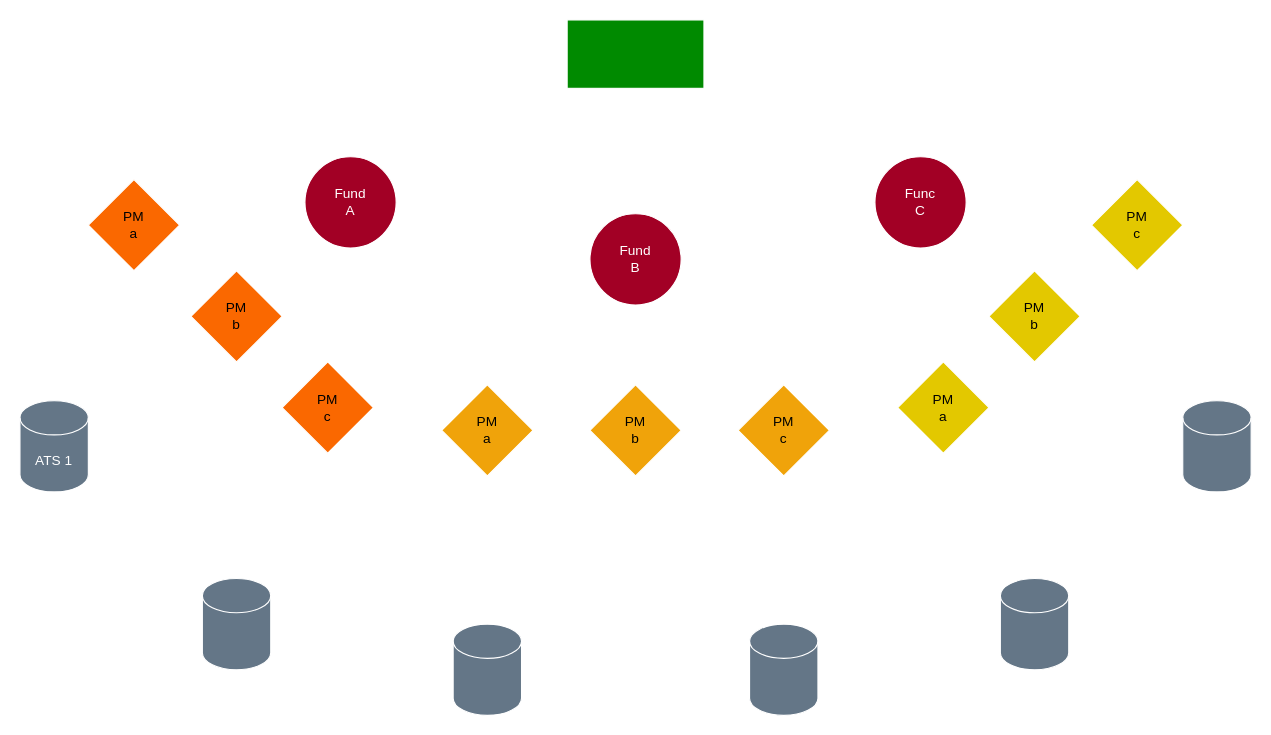
This 1271x735 diagram has some shape labels left out. The shapes that lost their labels are listed below. From the top down, each one's centre as x and y in pixels, then its label:
At [635,53]: "Investment Firm".
At [1216,446]: "ATS 6".
At [236,623]: "ATS 2".
At [1034,623]: "ATS 5".
At [487,669]: "ATS 3".
At [783,669]: "ATS 4".
